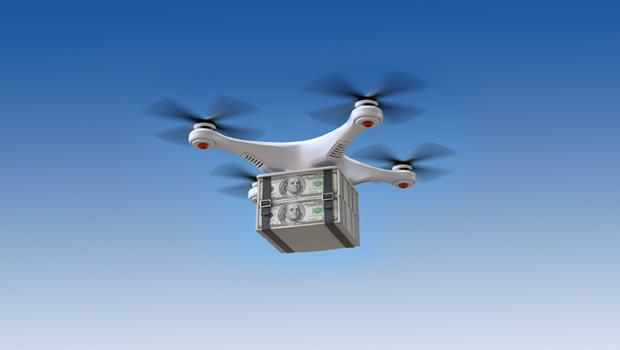drone: (140, 80, 461, 218)
